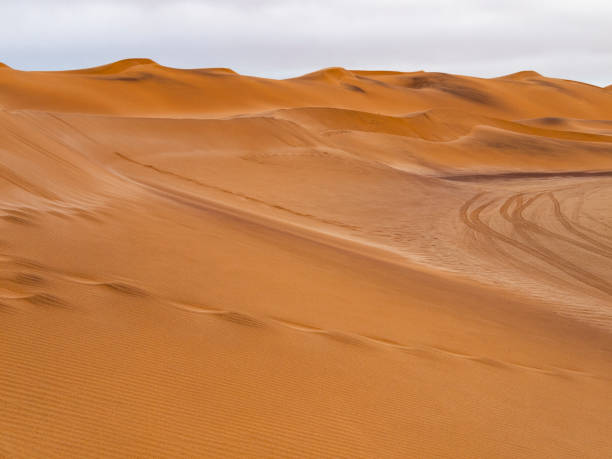vehicle_track: (460, 192, 611, 295)
